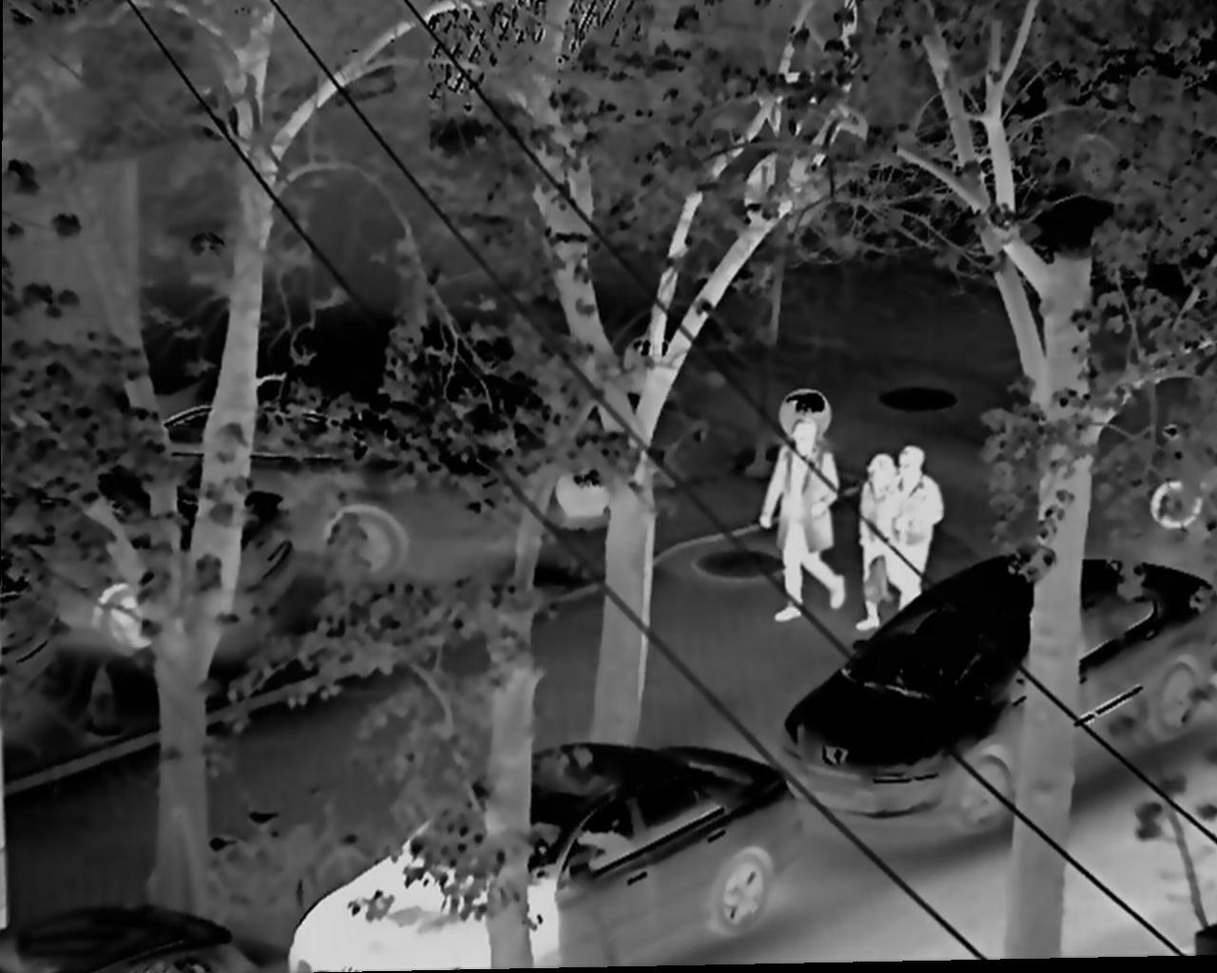person: (749, 417, 849, 622), (895, 436, 943, 620), (845, 450, 889, 634)
